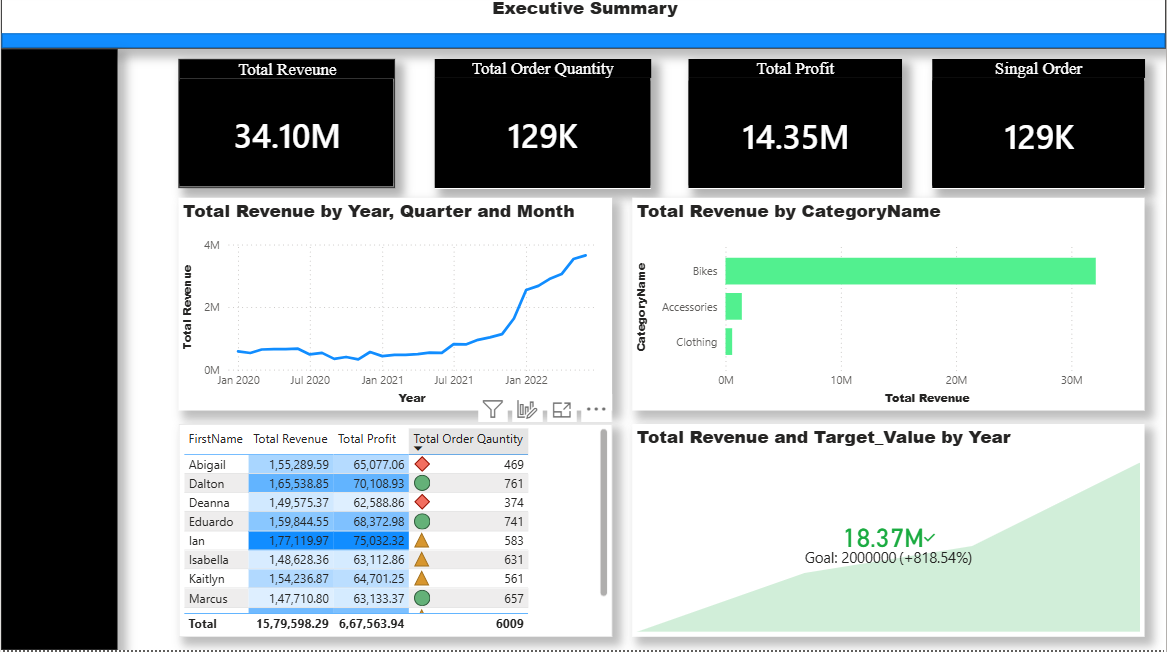

Layout of this report page (visuals, bound fields, positions):
{"tool":"powerbi","page":{"name":"Executive Overview","canvas":[1280,720],"ordinal":0},"visuals":[{"type":"shape","title":"Executive Summary","box":[0,0,1280.3,60.4],"z":0},{"type":"cardVisual","title":"Total Reveune","fields":{"Data":["Calculated Measures.Total Reveune"]},"box":[194.9,71.4,237.4,141.3],"z":1000},{"type":"cardVisual","title":"Total Order Quantity","fields":{"Data":["Calculated Measures.Total Order Qauntity"]},"box":[476.2,71.4,237.4,142.7],"z":2000},{"type":"cardVisual","title":"Total Profit","fields":{"Data":["Calculated Measures.Total Profit"]},"box":[754.7,71.4,234.6,142.7],"z":3000},{"type":"cardVisual","title":"Singal Order","fields":{"Data":["Calculated Measures.Singal Order Count"]},"box":[1022.3,71.4,233.3,142.7],"z":4000},{"type":"barChart","fields":{"Category":["Product Categories.CategoryName"],"Y":["Calculated Measures.Total Reveune"]},"box":[693,223.7,562.6,233.3],"z":5000},{"type":"lineChart","fields":{"Category":["Calendar Lookup.Date.Variation.Date Hierarchy.Year","Calendar Lookup.Date.Variation.Date Hierarchy.Quarter","Calendar Lookup.Date.Variation.Date Hierarchy.Month"],"Y":["Calculated Measures.Total Reveune"]},"box":[194.9,223.7,476.2,233.3],"z":6000},{"type":"tableEx","fields":{"Values":["Customer Lookup.FirstName","Calculated Measures.Total Reveune","Calculated Measures.Total Profit","Calculated Measures.Total Order Qauntity"]},"box":[194.9,472,476.2,233.3],"z":7000},{"type":"kpi","fields":{"Goal":["Calculated Measures.Target_Value"],"Indicator":["Calculated Measures.Total Reveune"],"TrendLine":["Calendar Lookup.Year"]},"box":[693,472,562.6,233.3],"z":8000},{"type":"shape","box":[0,59.9,128.4,660.3],"z":10000}]}

Visuals, with their boxes in screenshot pixels (x1, y1, x2, y2), scaled from the page's 1280x720 canvas onto the 1167x652 screenshot:
"Executive Summary" shape: crop(0, 0, 1166, 55)
"Total Reveune" cardVisual: crop(178, 65, 394, 193)
"Total Order Quantity" cardVisual: crop(434, 65, 651, 194)
"Total Profit" cardVisual: crop(688, 65, 902, 194)
"Singal Order" cardVisual: crop(932, 65, 1145, 194)
barChart - Product Categories.CategoryName x Calculated Measures.Total Reveune: crop(632, 203, 1145, 414)
lineChart - Calendar Lookup.Date.Variation.Date Hierarchy.Year x Calendar Lookup.Date.Variation.Date Hierarchy.Quarter: crop(178, 203, 612, 414)
tableEx - Customer Lookup.FirstName x Calculated Measures.Total Reveune: crop(178, 427, 612, 639)
kpi - Calculated Measures.Target_Value x Calculated Measures.Total Reveune: crop(632, 427, 1145, 639)
shape: crop(0, 54, 117, 651)
